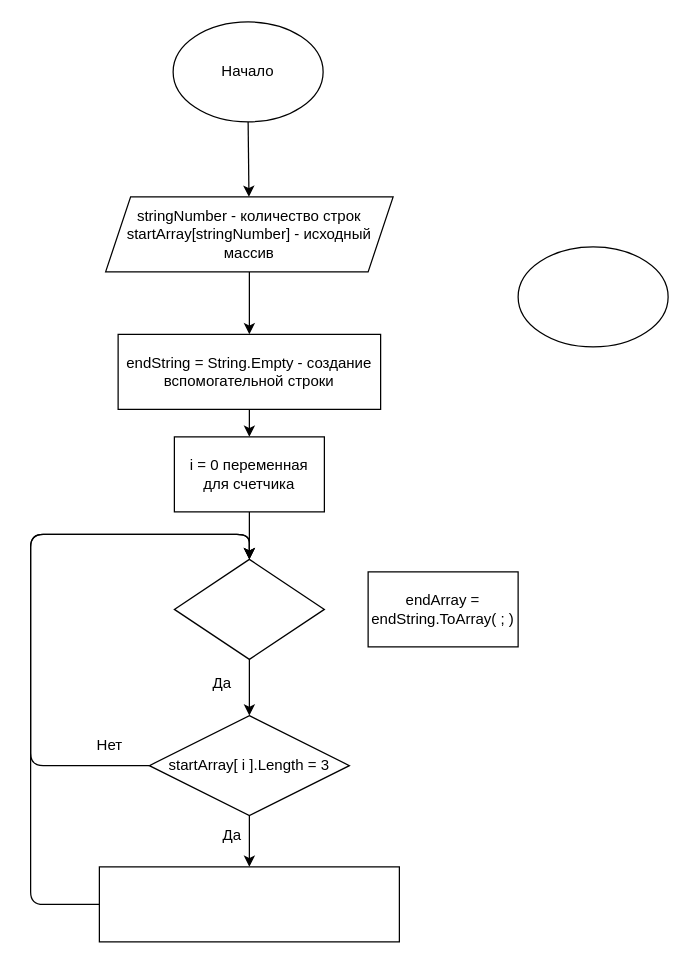
This 690x964 diagram has some shape labels left out. The box of each missing label's shape, as (x1, y1, x2, y2) in pixels:
endString = endString + startArray[ i ] + ",": (98, 866, 399, 942)
i < stringNumber: (173, 558, 324, 659)
Конец: (517, 246, 668, 347)
